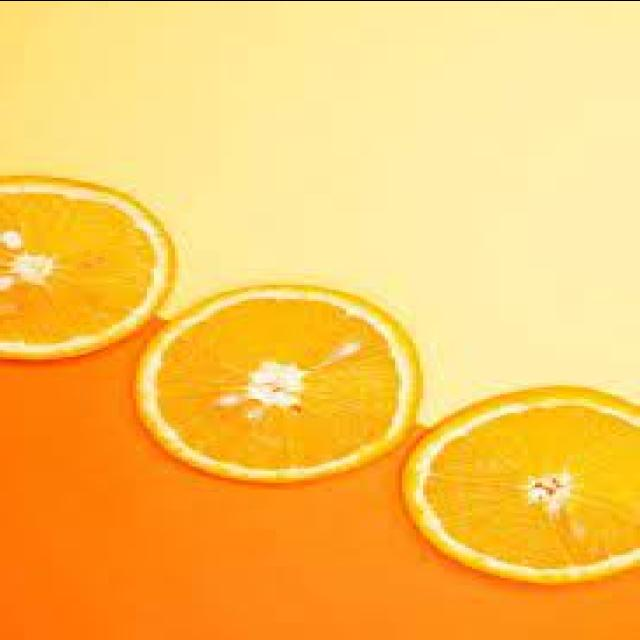orange: (136, 267, 416, 490)
